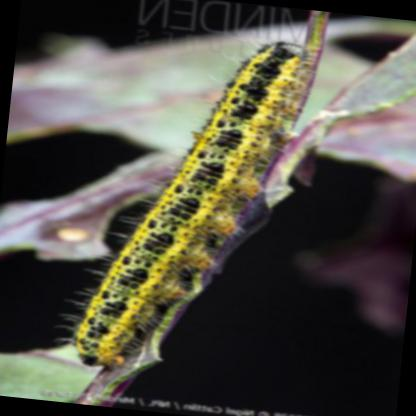pieris: (63, 40, 306, 367)
